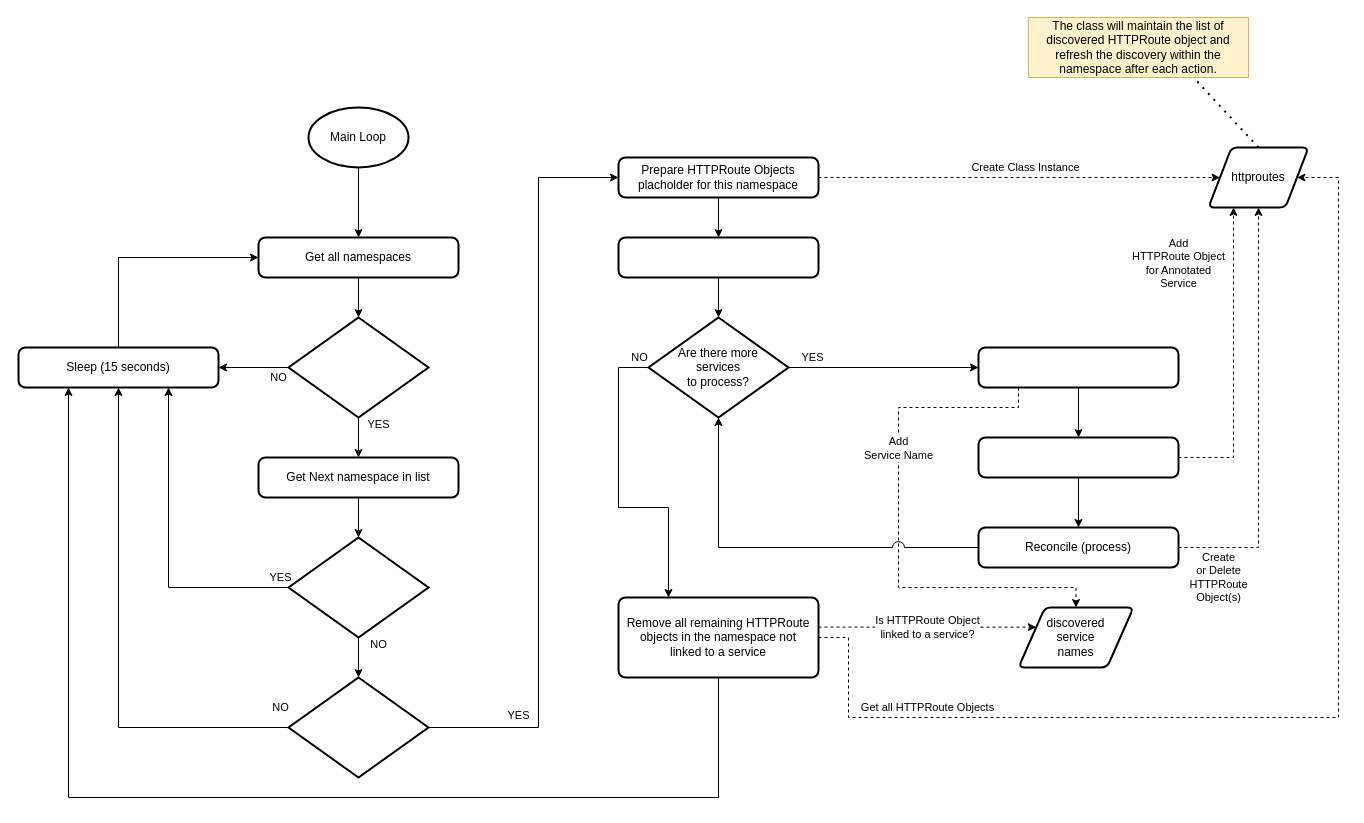
Image size: 1364x823. Some labels were removed from this diagram. The centre of each missing label's shape, as x and y in pixels:
Are there more namespaces to process?: the point at 358,367
Discover all services in namespace: the point at 718,257
Explicitly Ignore Namespace?: the point at 358,587
Namespace matches qualifyng name regex?: the point at 358,727
Parse Service Annotations: the point at 1078,457
Update dicovered service list: the point at 1078,367
